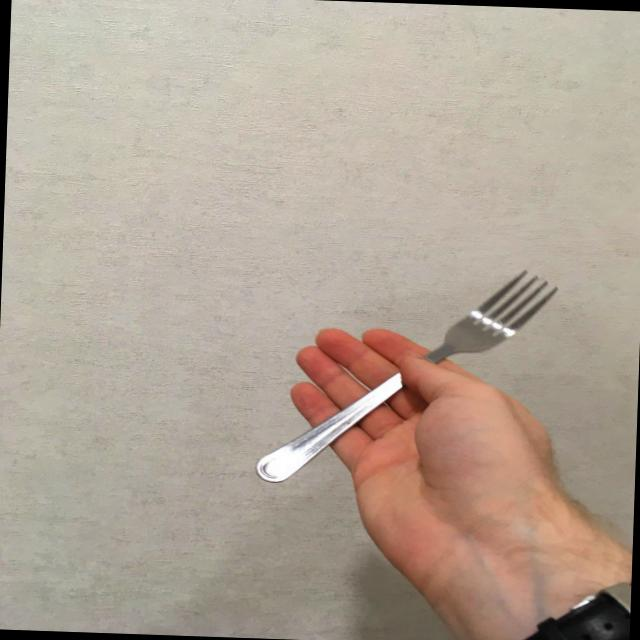fork: (252, 258, 561, 492)
